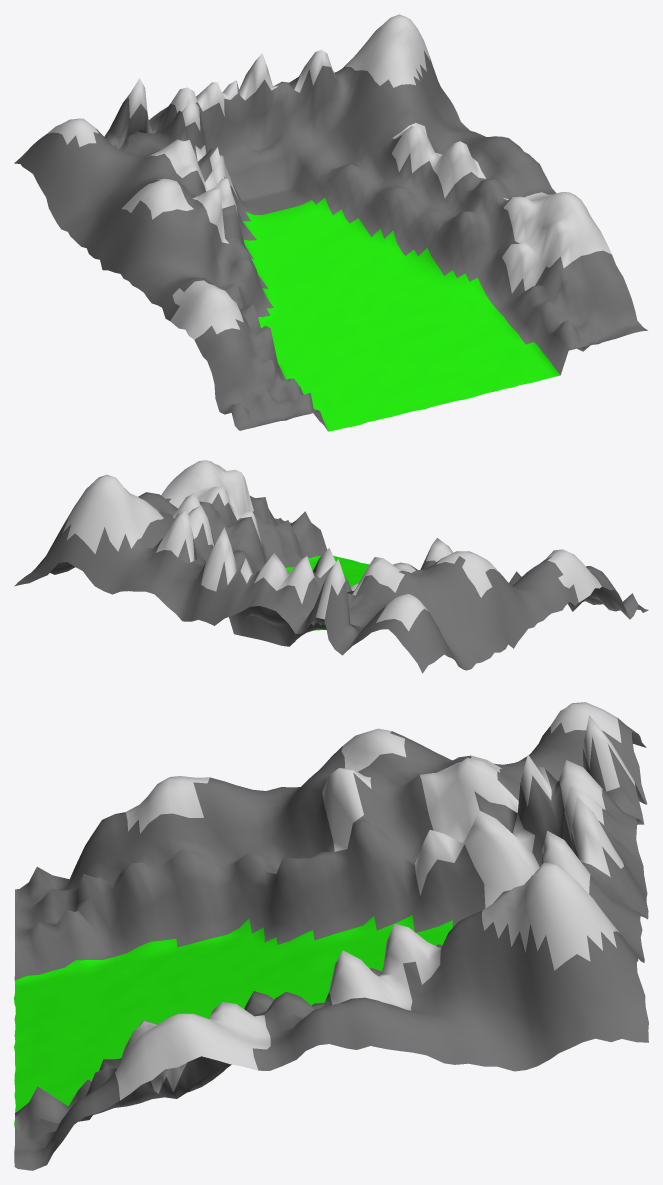
File: HillStartAreaJapan.fbx
3 renders of one model, top to bottom at view 1: azimuth 30°, elevation 25°; view 2: azimuth 150°, elevation 25°; view 3: azimuth 270°, elevation 25°, orthographic. The views are drawn at different scales.
Visible parts, largest first — view 1: Plane; view 2: Plane; view 3: Plane.
Boxes of the visible parts, x1,y1,x2,y2 form: Plane: (14, 14, 647, 431); Plane: (14, 460, 648, 673); Plane: (14, 702, 648, 1170).
Size of the model in its own units: 15084 by 7430 by 14448.
